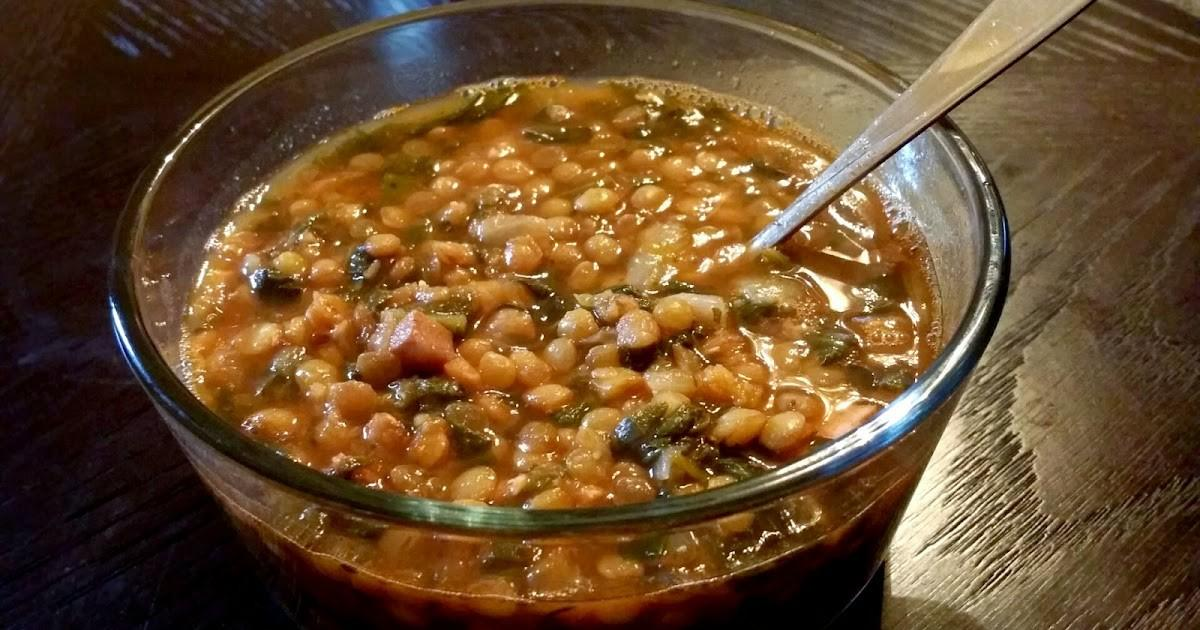RajmaCurry: (177, 83, 940, 627)
